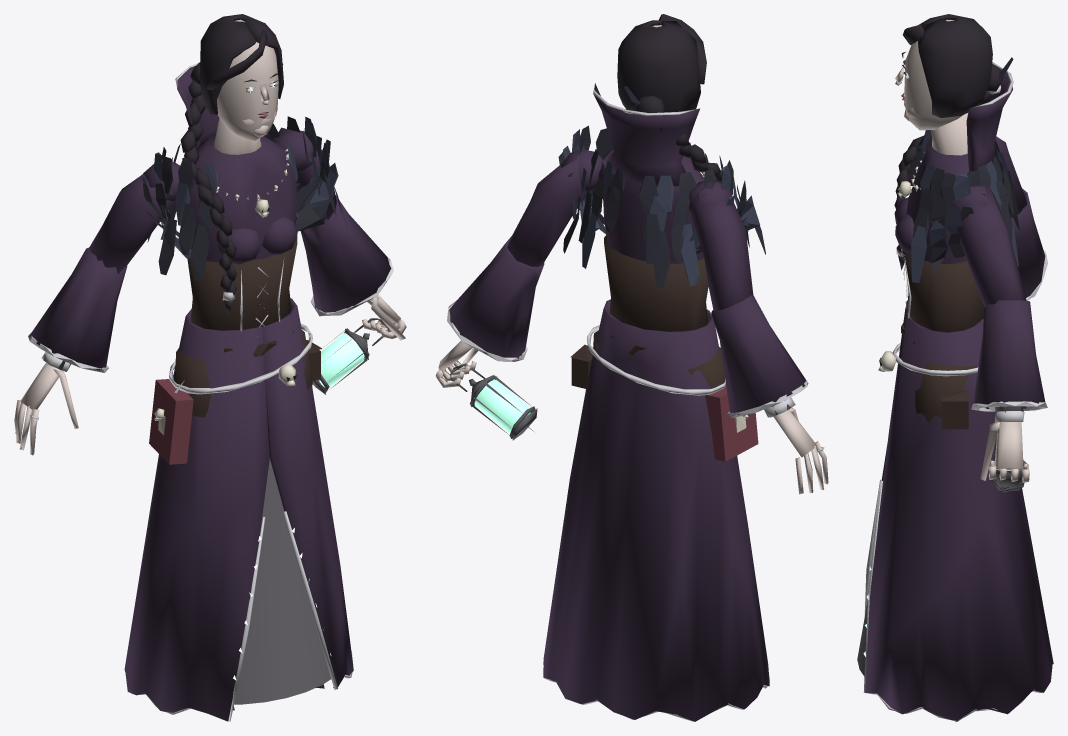
File: hero_14.glb
3 views of the same model, side by side, from view 1: azimuth 30°, elevation 25°; view 2: azimuth 150°, elevation 25°; view 3: azimuth 270°, elevation 25° (orthographic).
Visible parts, largest first — view 1: hero_14__OW_Char_MaelisDray_MESH_d; view 2: hero_14__OW_Char_MaelisDray_MESH_d; view 3: hero_14__OW_Char_MaelisDray_MESH_d.
Part boxes in pixels (box(x1,y1,x2,y2)): hero_14__OW_Char_MaelisDray_MESH_d: box(14, 14, 406, 721); hero_14__OW_Char_MaelisDray_MESH_d: box(435, 14, 828, 721); hero_14__OW_Char_MaelisDray_MESH_d: box(857, 14, 1053, 721).
Bounding box in the file's own units: 1.07 × 1.76 × 0.4765.
